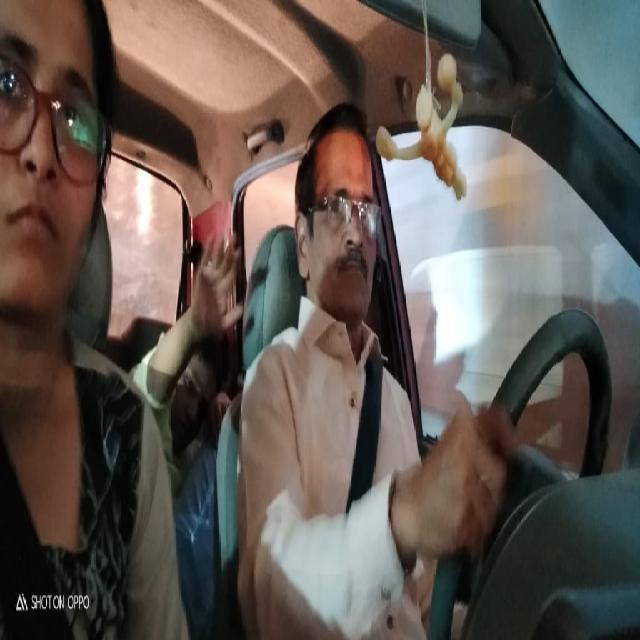person: (0, 0, 121, 339), (292, 94, 391, 338), (170, 324, 229, 450)
